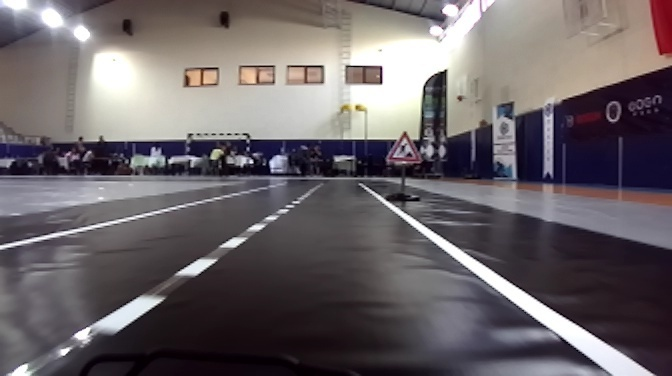yol_yapimi: (382, 131, 423, 164)
